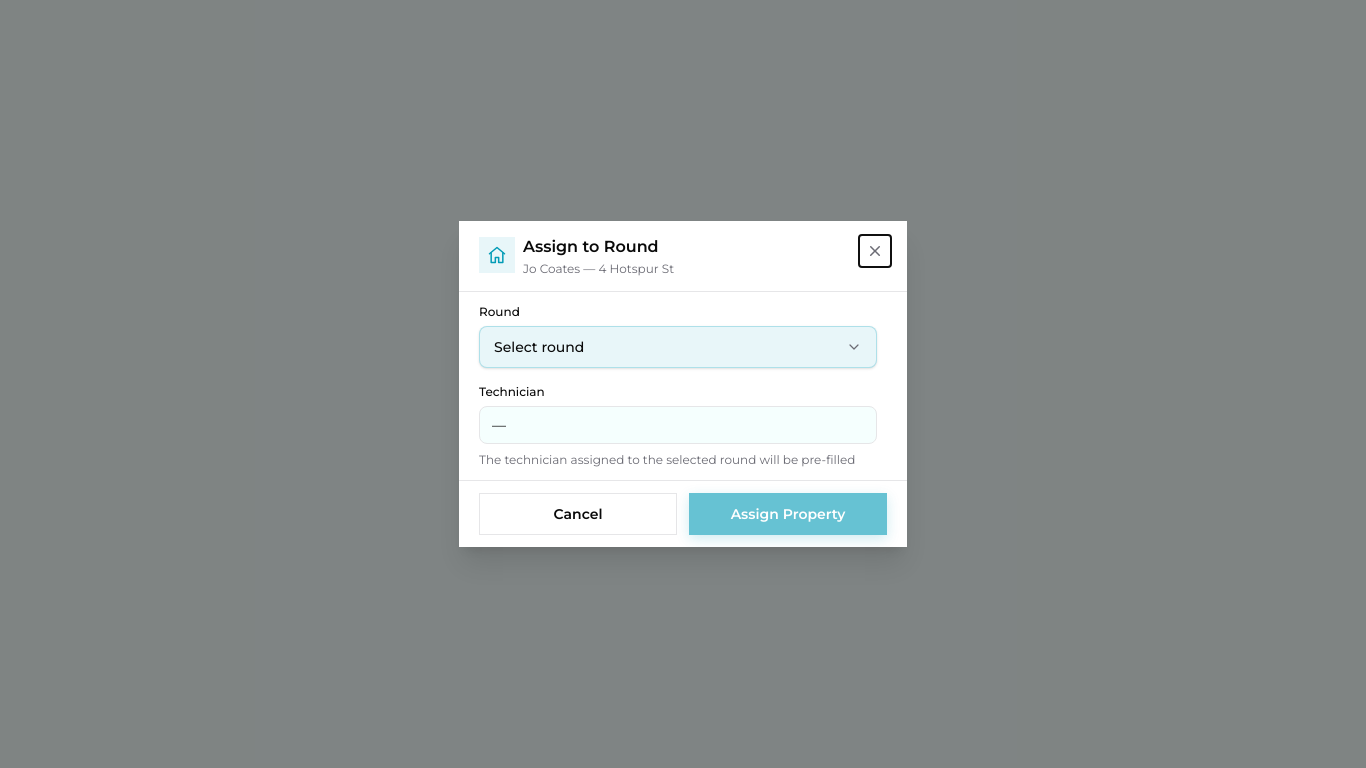
Test case: AssignToRoundModal (GAP-018) › shows a 400 inline and toasts any other failure
What coordinates should you click on to do the following:
click the button "Select round"
I would click on:
 (539, 347)
Its box is [479,326,877,368].
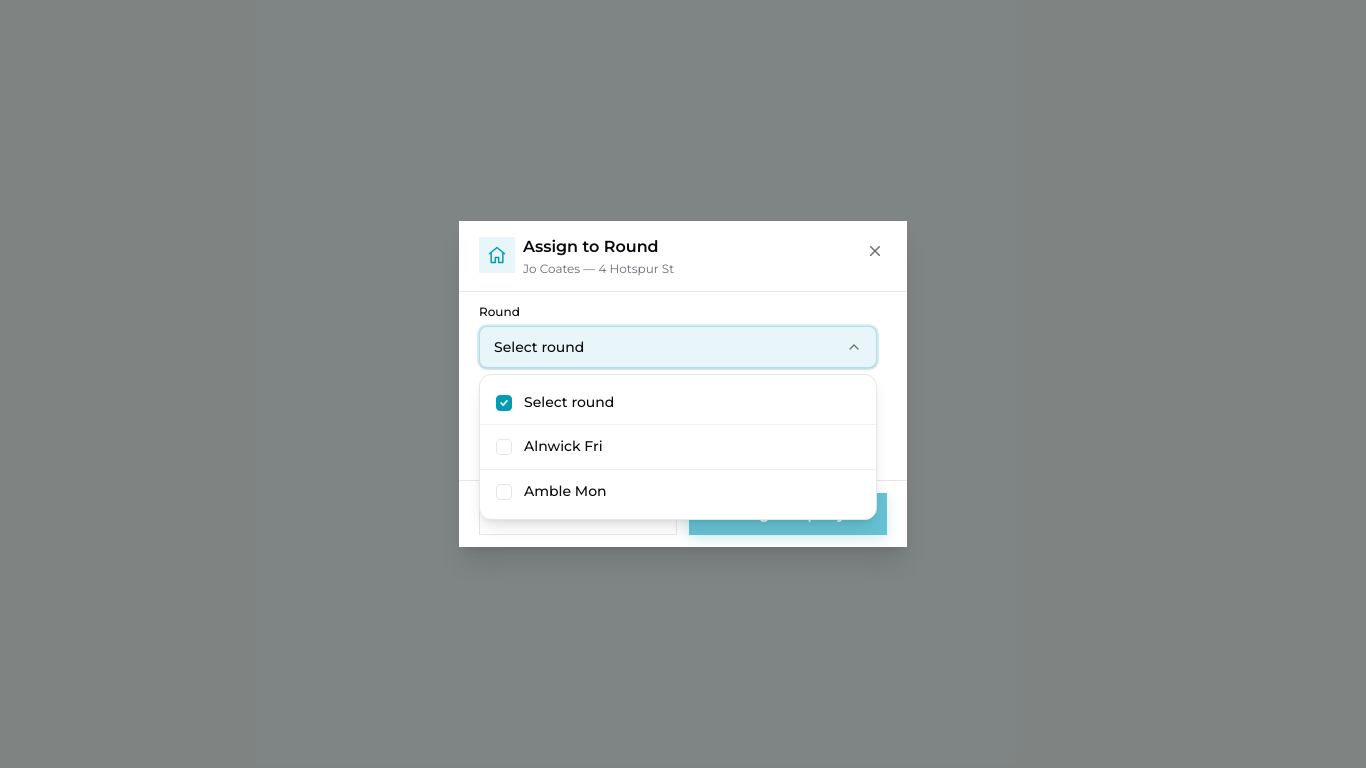
What coordinates should you click on to do the following:
click the option "Alnwick Fri"
I would click on:
 (563, 446)
Its box is [480,425,876,470].
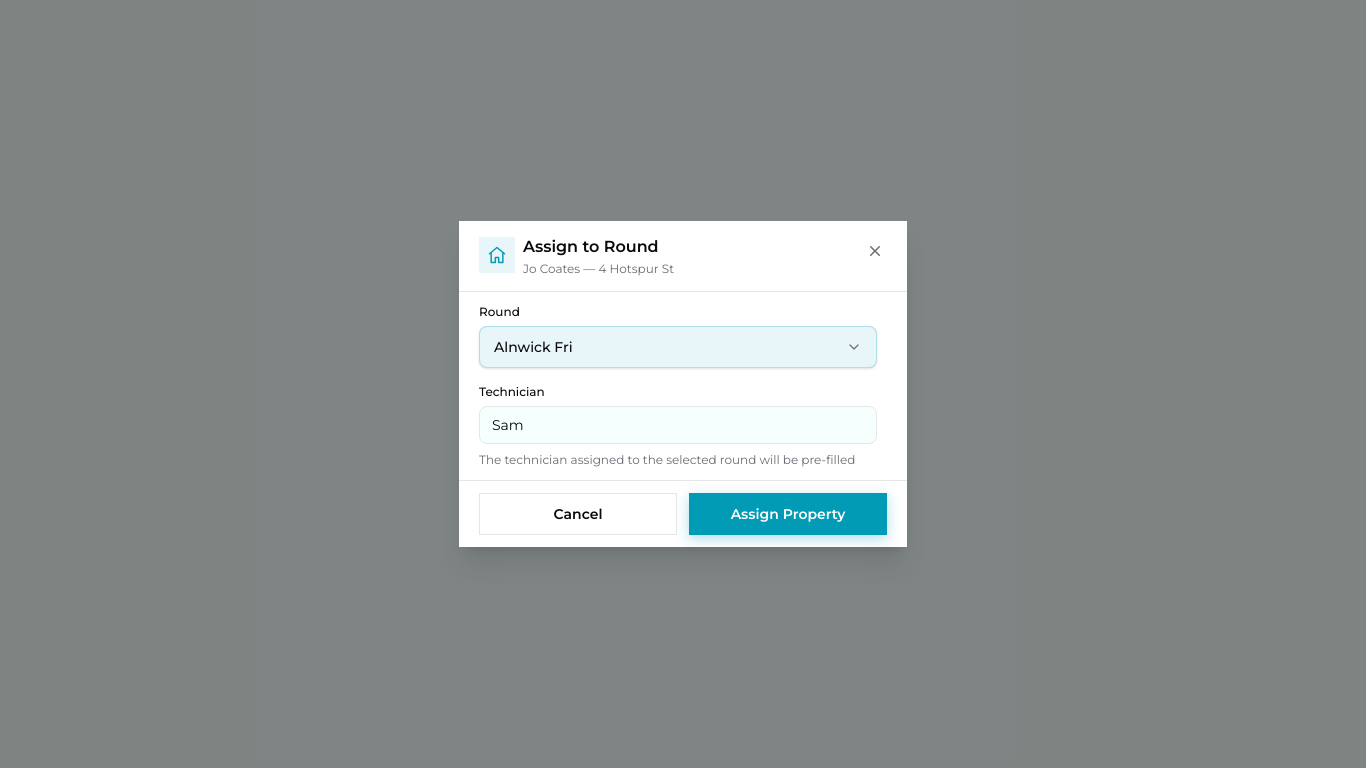
What coordinates should you click on to do the following:
click the button "Assign Property"
I would click on:
 (788, 514)
Its box is [689,493,887,535].
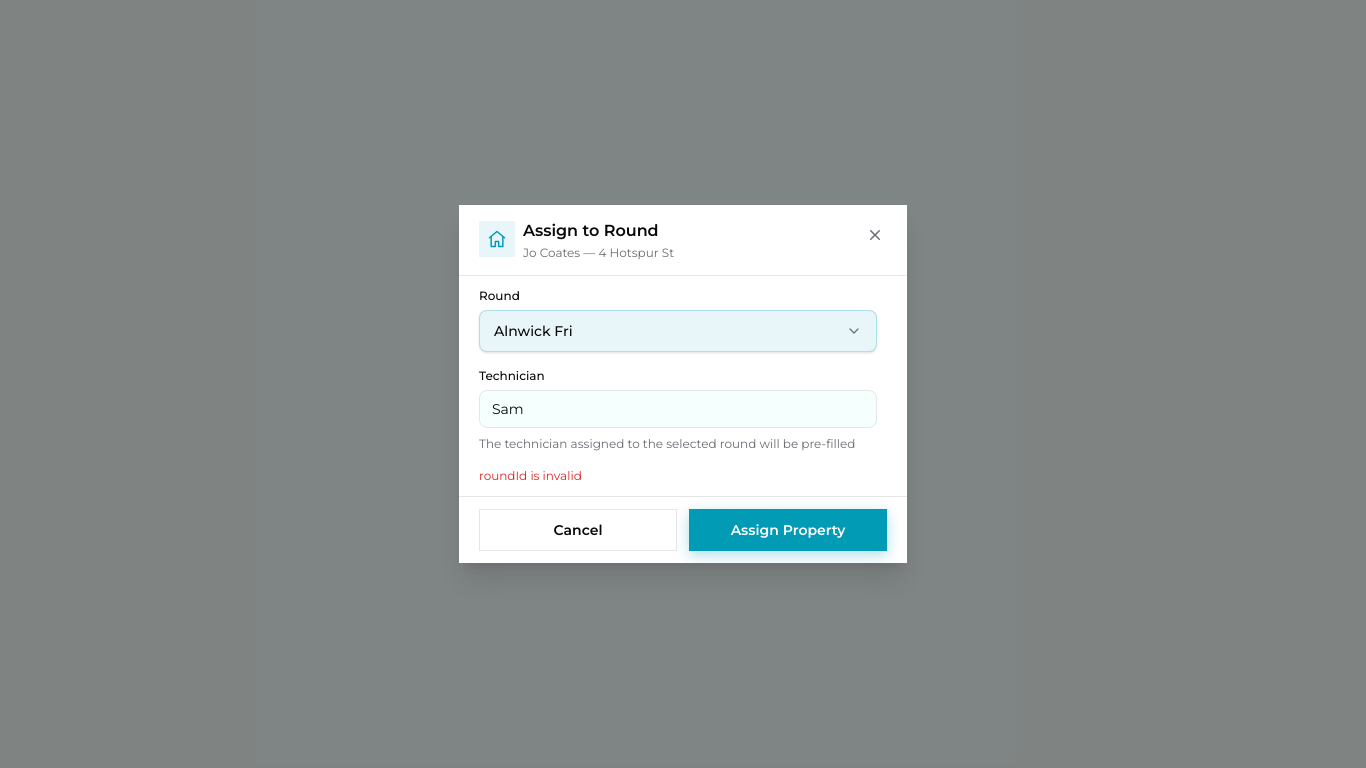
Expected: the text "roundId is invalid" is shown, [479,468,582,483]
What coordinates should you click on to do the following:
click the button "Assign Property"
I would click on:
 (788, 530)
Its box is [689,509,887,551].
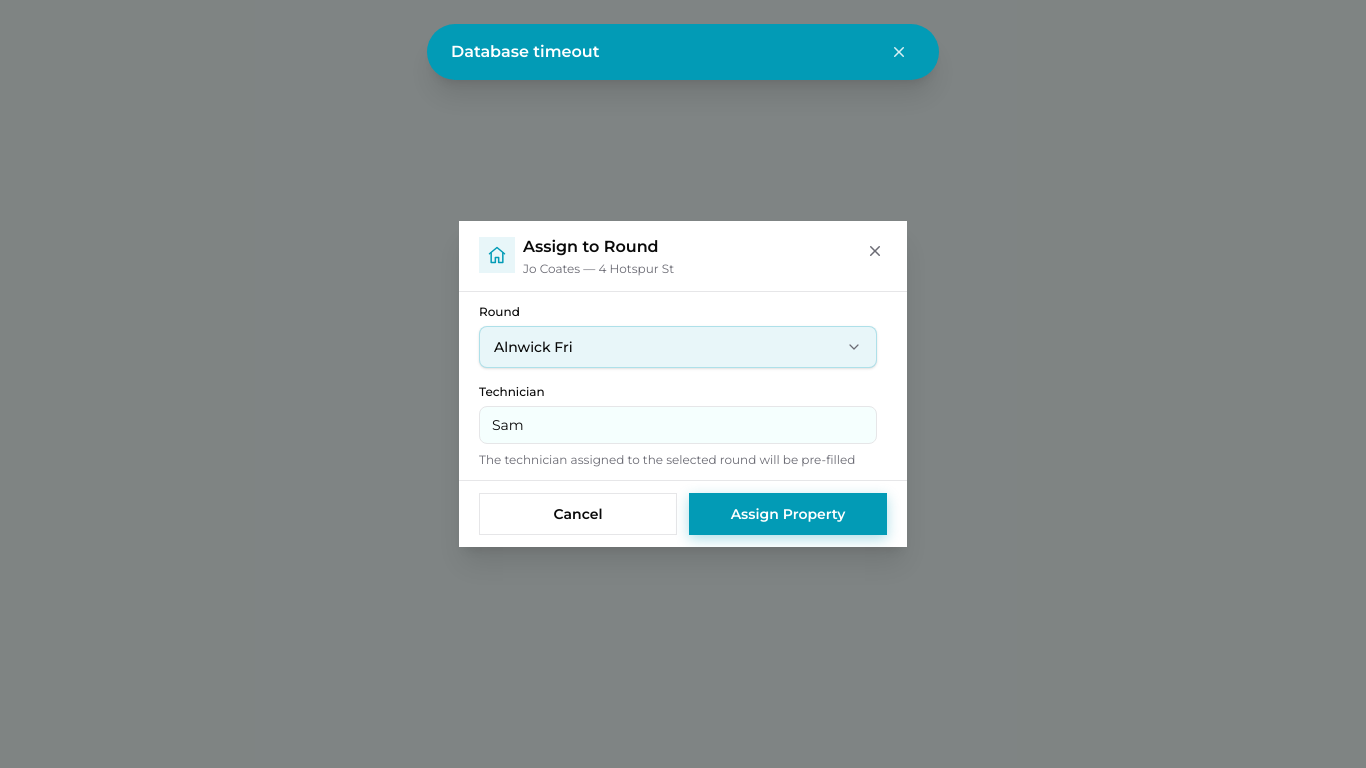
Expected: the text "Database timeout" is shown, [451,40,600,64]
